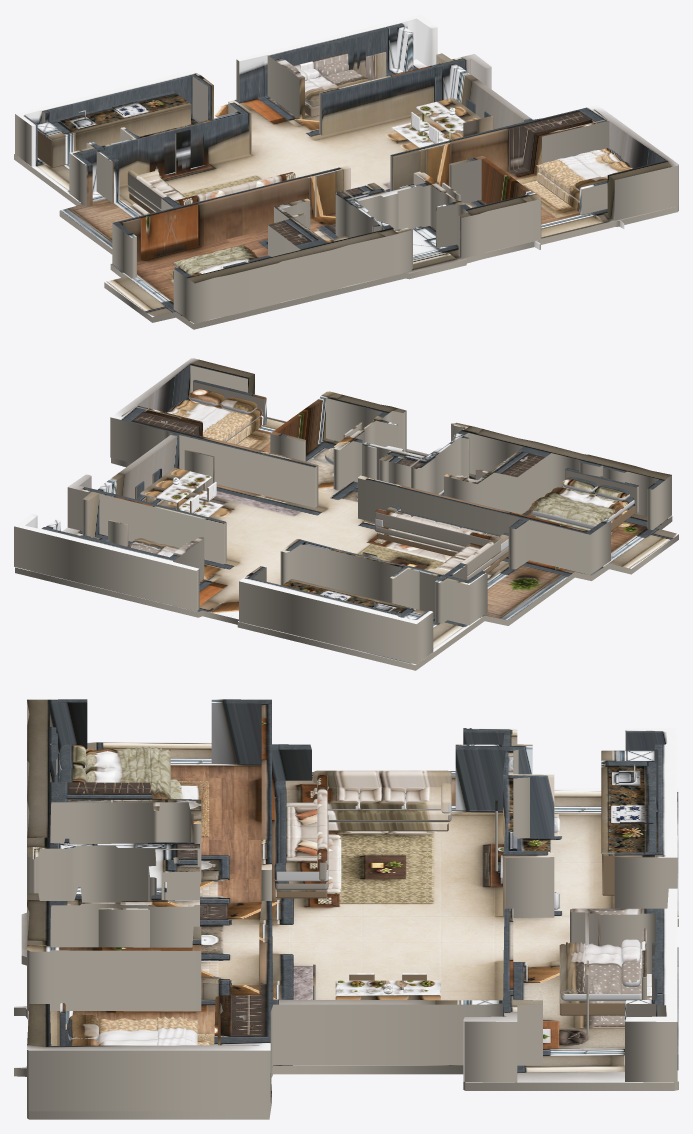
The model's file is p13-08-u08-2112-image-model.glb.
3 renders of one model, top to bottom at view 1: azimuth 30°, elevation 25°; view 2: azimuth 150°, elevation 25°; view 3: azimuth 270°, elevation 25°, orthographic. The views are drawn at different scales.
Visible parts, largest first — view 1: Partition walls, Apartment floor, Kitchen cabinets, Stone worktop, Draped bed linen.002, Marble dining top, Sofa back, Upholstered headboard.001, Draped bed linen.003, Draped bed linen, Draped bed linen.001, Sofa back.001 (+1 smaller); view 2: Partition walls, Apartment floor, Sofa back, Draped bed linen, Marble dining top, Draped bed linen.002, Stone worktop, Upholstered headboard.001, Upholstered sofa frame, Upholstered headboard, Draped bed linen.001, Sofa back.001 (+2 smaller); view 3: Partition walls, Apartment floor, Stone worktop, Draped bed linen, Sofa back.001, Draped bed linen.004, Marble dining top, Draped bed linen.002, Upholstered sofa frame.001, Sofa plinth.001, Sofa back, Seat cushion.006 (+14 smaller).
Boxes of the visible parts, x1,y1,x2,y2 form: Partition walls: (15, 14, 678, 323); Apartment floor: (14, 59, 678, 329); Kitchen cabinets: (37, 106, 190, 167); Stone worktop: (37, 91, 191, 139); Draped bed linen.002: (536, 148, 633, 189); Marble dining top: (416, 98, 481, 133); Sofa back: (174, 172, 295, 205); Upholstered headboard.001: (579, 180, 607, 215); Draped bed linen.003: (539, 148, 620, 174); Draped bed linen: (172, 248, 258, 276); Draped bed linen.001: (175, 245, 254, 270); Sofa back.001: (127, 170, 167, 209); Partition walls: (14, 358, 671, 664); Apartment floor: (15, 417, 678, 670); Sofa back: (375, 509, 495, 546); Draped bed linen: (528, 487, 626, 524); Marble dining top: (140, 467, 211, 503); Draped bed linen.002: (168, 400, 252, 440); Stone worktop: (282, 579, 425, 619); Upholstered headboard.001: (193, 380, 266, 424); Upholstered sofa frame: (375, 525, 508, 559); Upholstered headboard: (565, 468, 638, 513); Draped bed linen.001: (531, 497, 610, 521); Sofa back.001: (461, 536, 500, 575); Partition walls: (27, 699, 677, 1111); Apartment floor: (14, 742, 678, 1119); Stone worktop: (601, 750, 656, 853); Draped bed linen: (85, 748, 170, 799); Sofa back.001: (313, 770, 451, 794); Draped bed linen.004: (559, 943, 622, 994); Marble dining top: (335, 980, 440, 1000); Draped bed linen.002: (98, 1018, 197, 1045); Upholstered sofa frame.001: (327, 794, 451, 822); Sofa plinth.001: (328, 822, 448, 831); Sofa back: (317, 771, 327, 880); Seat cushion.006: (360, 787, 404, 810).
Bounding box in the file's own units: 14.92 × 1.3 × 11.36.
Materials: 13 (3 with a texture image).
